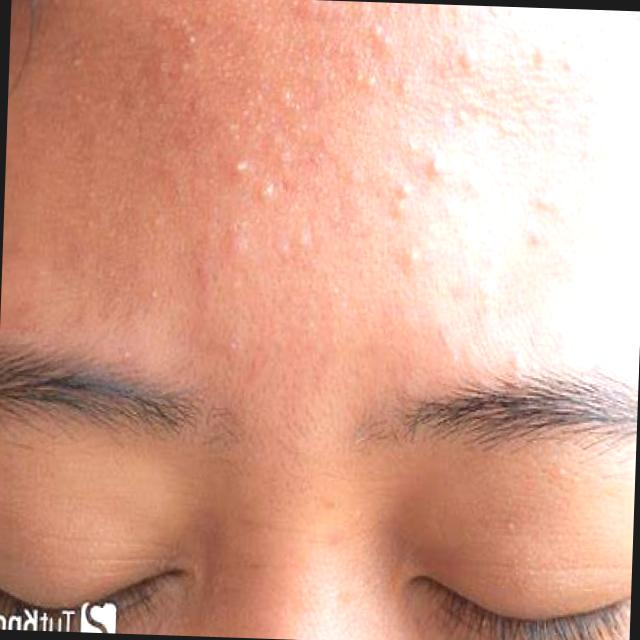fungal: (47, 0, 619, 362)
